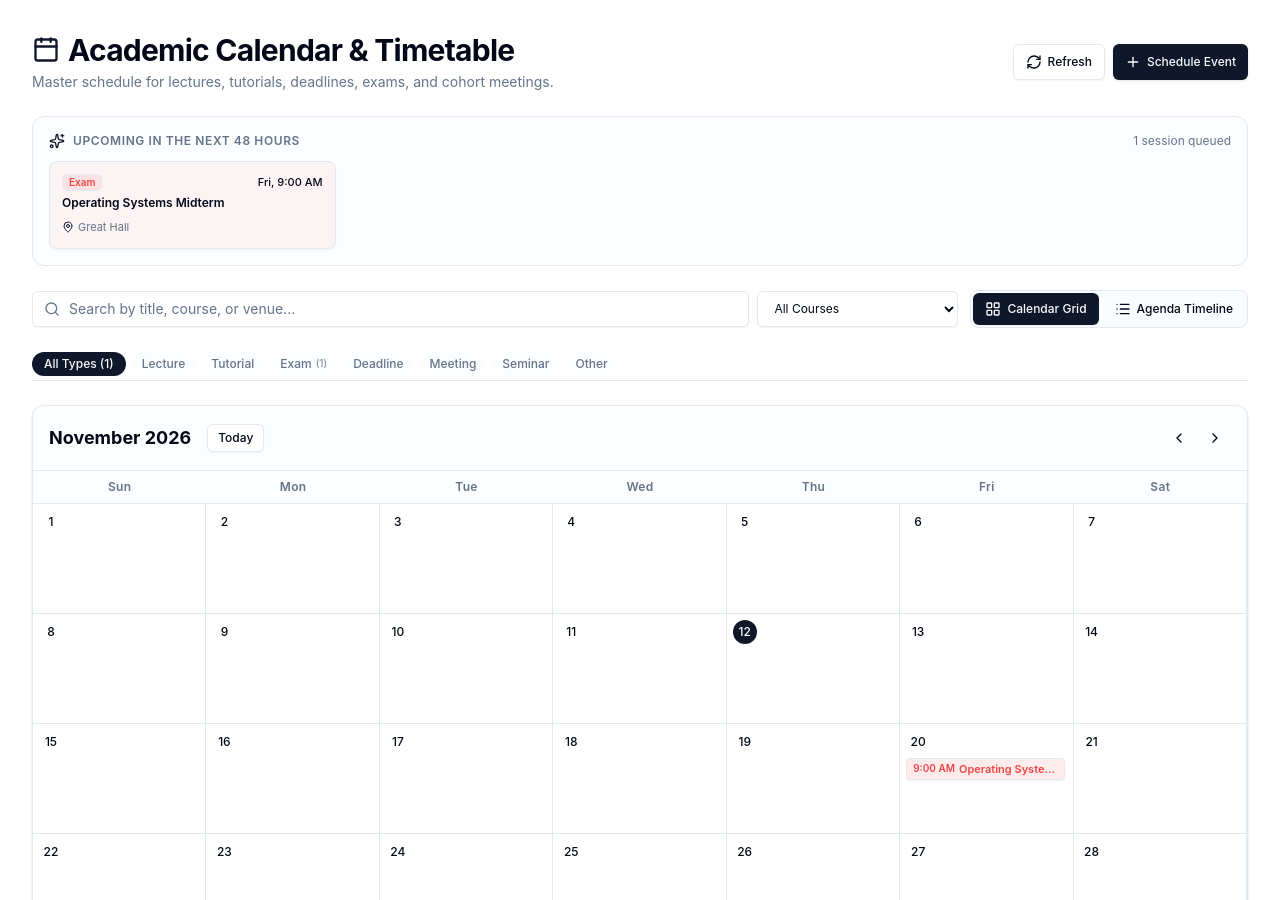
Test case: EventsPage › toggles between Calendar Grid and Agenda Timeline views
The width and height of the screenshot is (1280, 900).
Switch to Agenda Timeline
Click the button "Agenda Timeline": x=1174, y=308 [1103,292,1245,324]
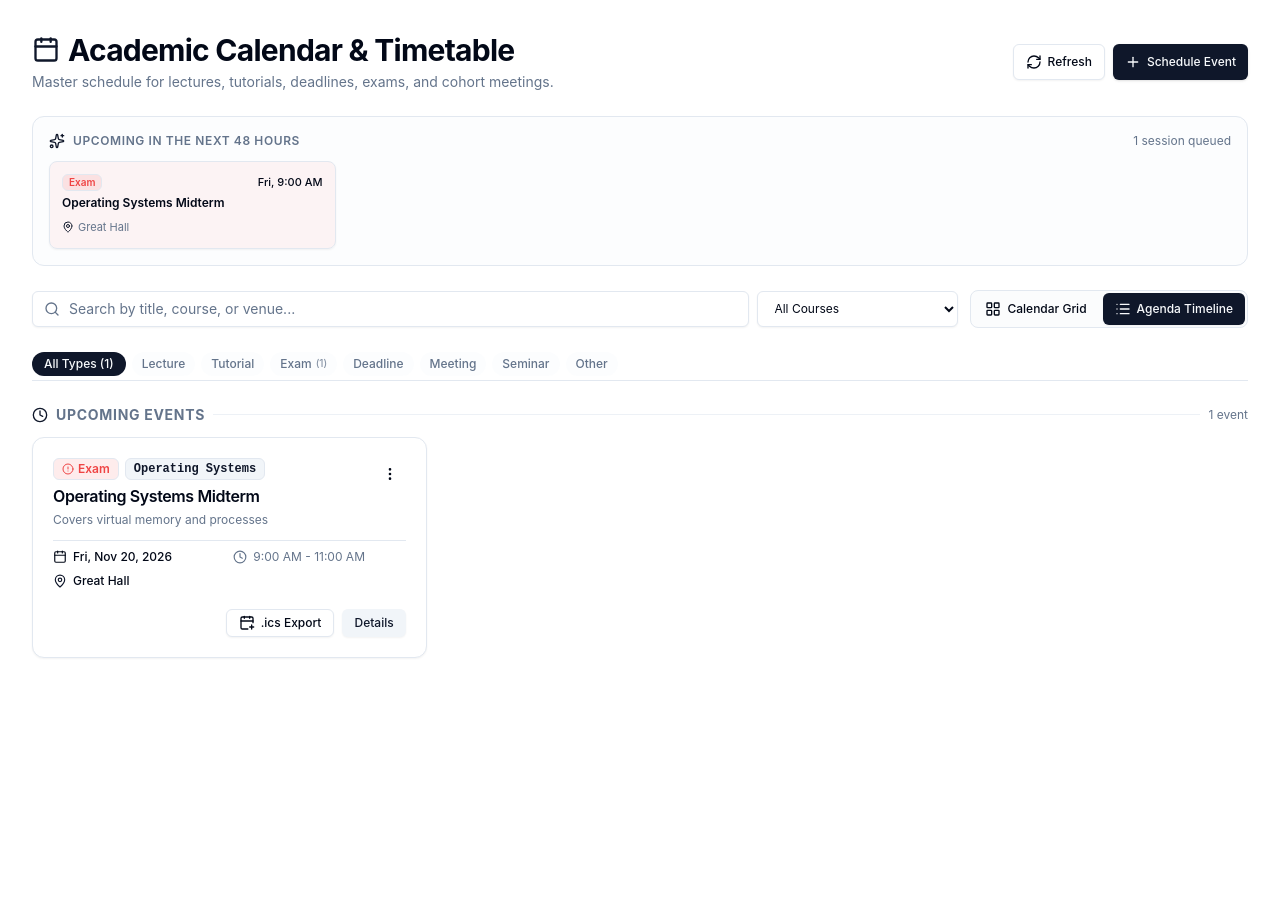
expect the element with test id "agenda-timeline-view" is shown: met, box [32,404,1248,658]
